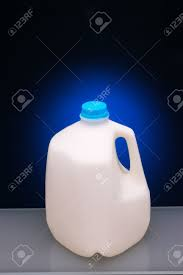milk: (41, 104, 155, 256)
